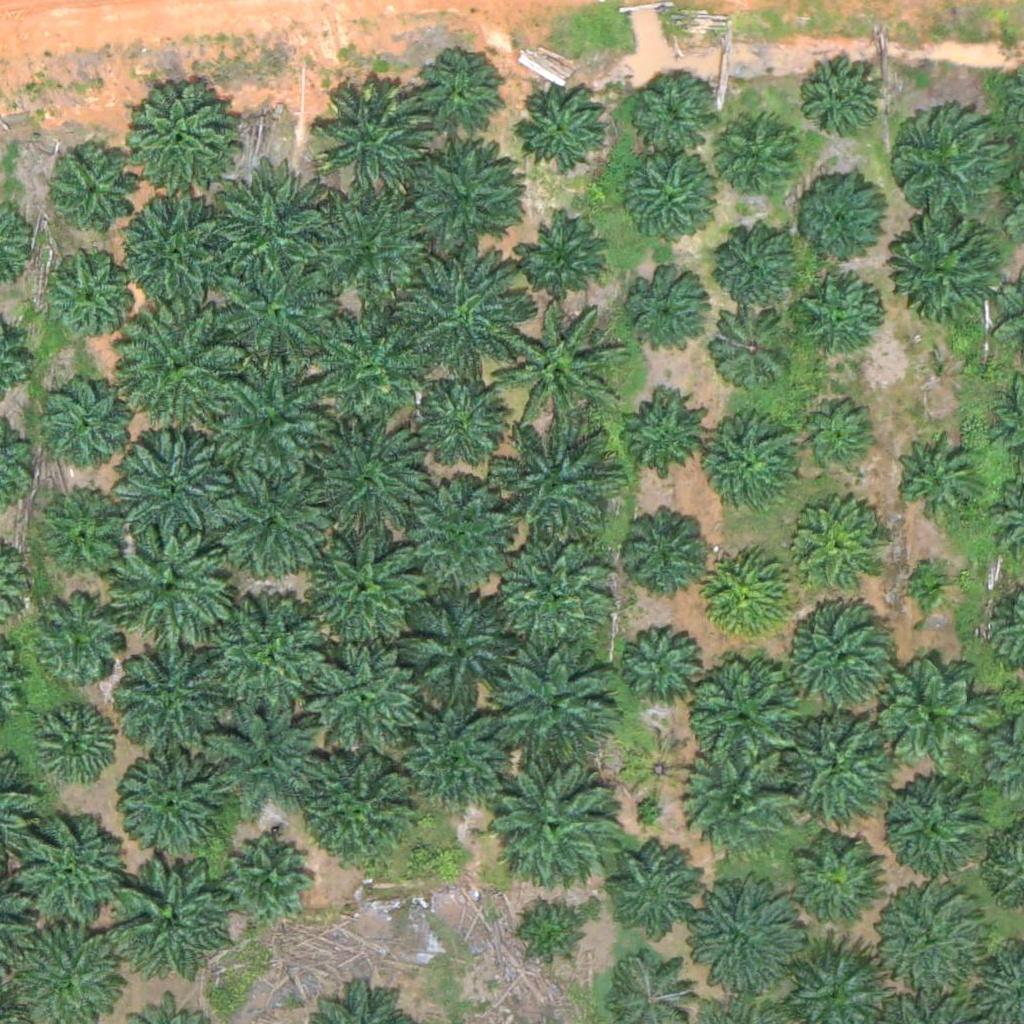Kelapa_Sawit: (313, 75, 438, 201), (305, 183, 430, 309), (310, 311, 435, 437), (310, 423, 435, 549), (304, 533, 429, 659), (298, 746, 423, 872), (208, 697, 333, 823), (204, 593, 329, 719), (211, 360, 336, 486), (216, 252, 341, 378), (210, 172, 335, 298), (114, 192, 239, 318), (113, 421, 238, 547), (109, 526, 234, 652), (107, 859, 232, 985), (14, 813, 139, 939), (395, 254, 520, 380), (395, 480, 520, 606), (392, 587, 517, 713), (393, 696, 518, 822), (487, 651, 612, 777), (495, 763, 620, 889), (495, 423, 620, 549), (492, 307, 617, 433), (674, 739, 799, 865), (780, 595, 905, 721), (777, 711, 902, 837), (872, 651, 997, 777), (889, 101, 1014, 227), (675, 875, 800, 1001), (294, 631, 419, 756), (208, 463, 333, 588), (125, 303, 250, 428), (399, 133, 524, 258), (490, 526, 615, 651), (119, 78, 232, 192), (112, 650, 225, 763), (117, 753, 230, 866), (687, 653, 799, 767), (789, 833, 889, 934), (882, 778, 982, 879), (901, 219, 1001, 320), (881, 894, 981, 995), (600, 837, 700, 937), (705, 419, 805, 519), (33, 592, 121, 680), (44, 373, 132, 461), (420, 379, 508, 467), (623, 158, 711, 246), (628, 273, 716, 361), (616, 385, 704, 473), (620, 502, 708, 590), (706, 550, 794, 638), (792, 508, 880, 596), (520, 211, 607, 300), (794, 174, 881, 263), (626, 66, 713, 154), (713, 220, 800, 308), (224, 833, 311, 921), (36, 696, 123, 784), (44, 491, 131, 579), (51, 250, 138, 338), (50, 151, 137, 239), (417, 56, 504, 144), (515, 82, 602, 170), (619, 621, 706, 709), (708, 301, 795, 389), (716, 112, 803, 200), (802, 55, 889, 143), (799, 282, 886, 370), (893, 432, 980, 520), (509, 898, 584, 974), (804, 398, 879, 473), (626, 734, 688, 797), (906, 557, 956, 607)
